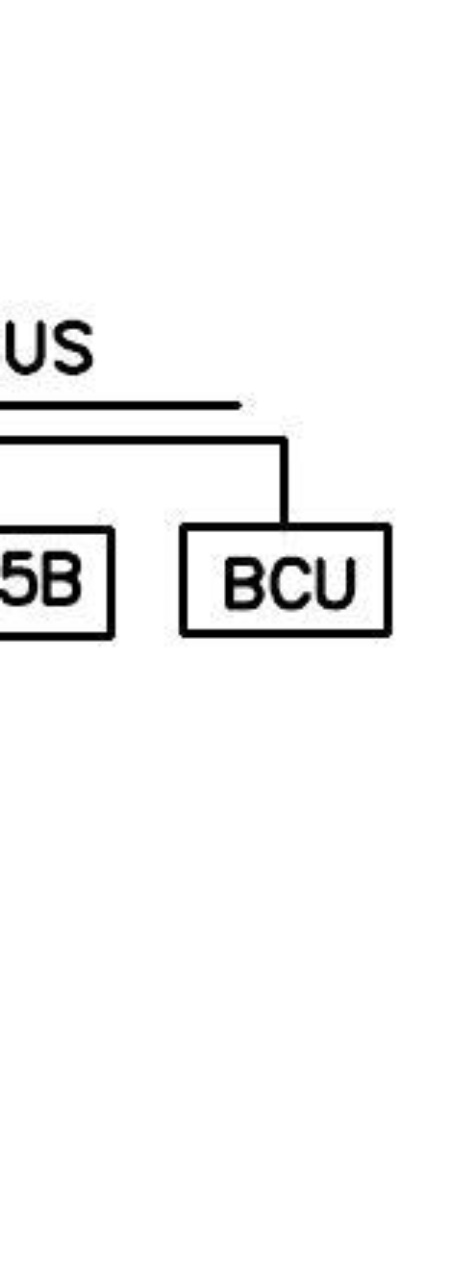BCU: (177, 520, 395, 640)
